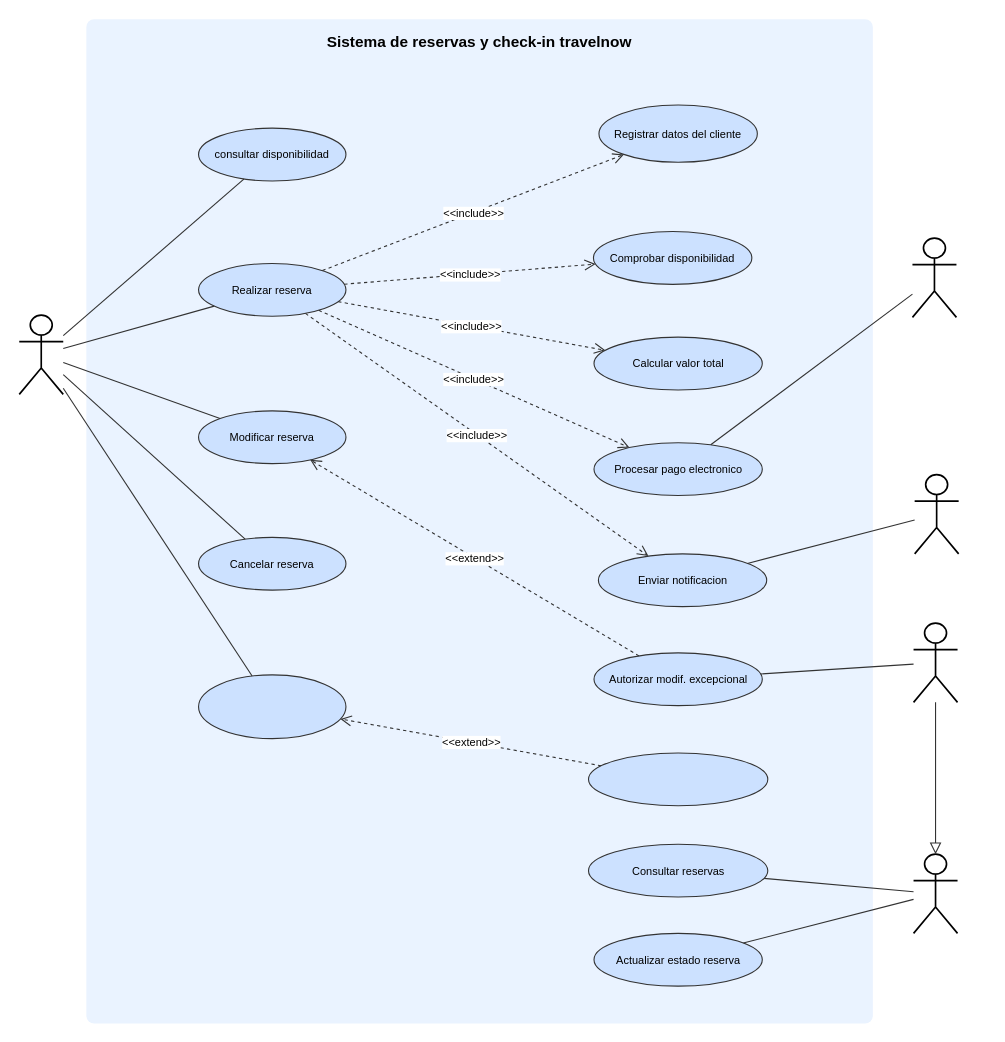
Image size: 1005x1042. Some labels were removed from this diagram. Here are the shapes that lost their labels. From the top down, the box of each, then its label:
(911, 237, 957, 318): Pasarela de pagos
(18, 314, 64, 395): Cliente
(913, 473, 959, 554): Servicio de correo electronico
(912, 622, 958, 703): supervisor
(197, 674, 346, 739): Realizar pre check-in
(587, 752, 768, 806): Solicitar serv. adicionales
(912, 853, 958, 934): Empleado
